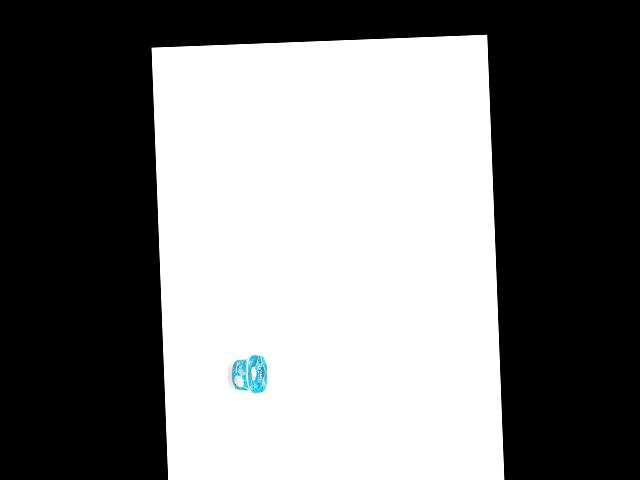cotage: (227, 352, 269, 397)
